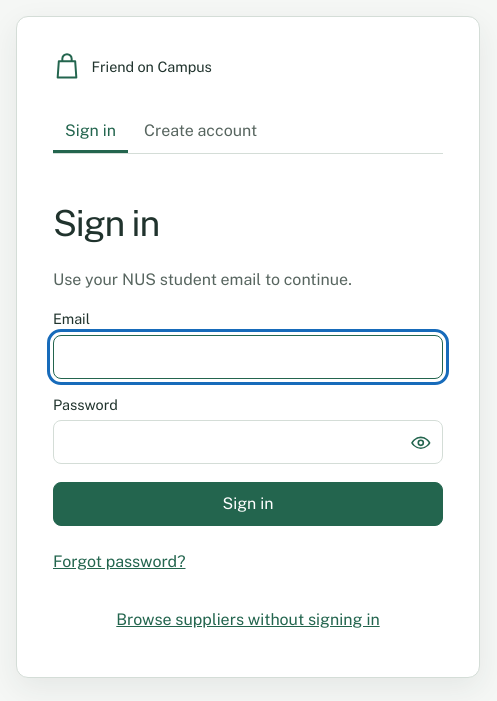
Test: restores an unfinished reset code screen after a browser refresh
Step 1. Click the button "Forgot password?" → (119, 562), box x1=53 y1=544 x2=443 y2=580
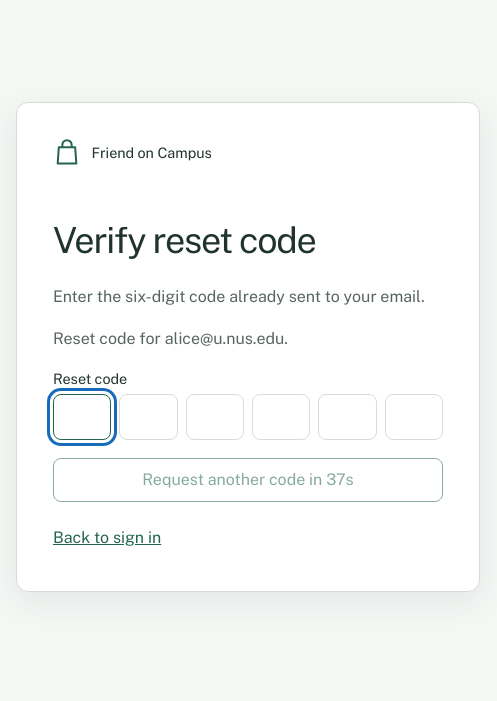
Expected: the heading "Verify reset code" is shown, x1=53 y1=219 x2=316 y2=261
Expected: the button "Request another code in 37s" is disabled, x1=53 y1=458 x2=443 y2=502
